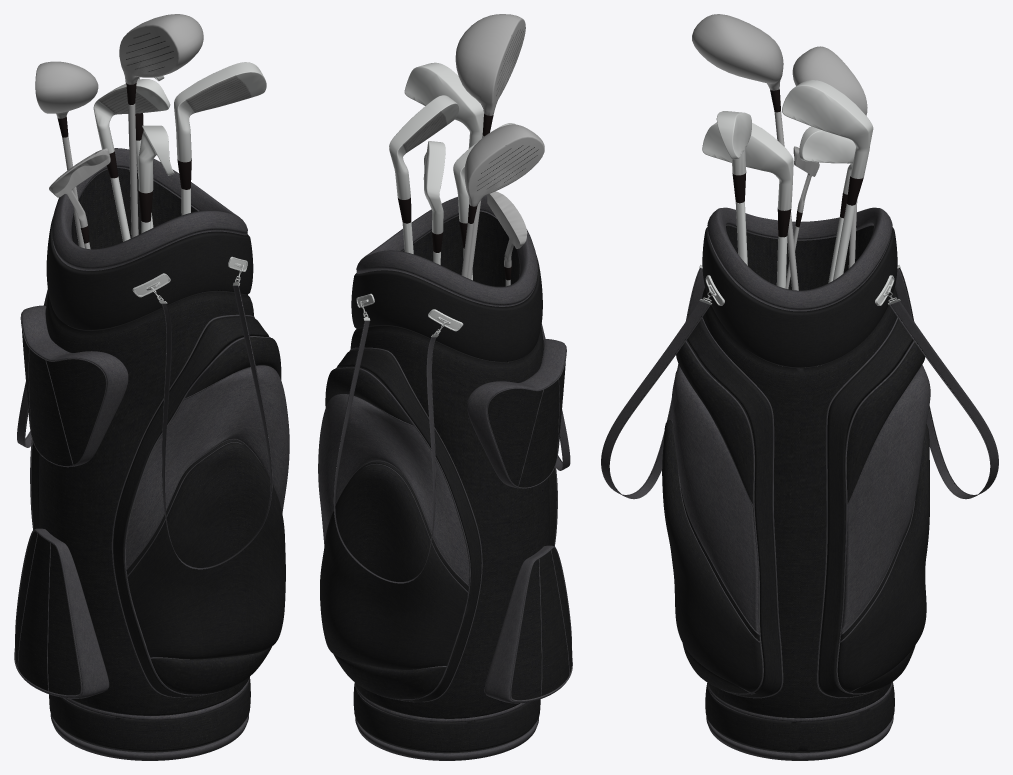
Rendered from golf_bag (1).glb.
3 renders of one model, left to right at view 1: azimuth 30°, elevation 25°; view 2: azimuth 150°, elevation 25°; view 3: azimuth 270°, elevation 25°, orthographic. The views are drawn at different scales.
Parts seen in each view (by area): view 1: golf_bag, golf_clubs, Default group initialShadingGroup polySurface1445 polySurfac, golf_bag_straps; view 2: golf_bag, golf_clubs, Default group initialShadingGroup polySurface1445 polySurfac, golf_bag_straps; view 3: golf_bag, golf_clubs, golf_bag_straps, Default group initialShadingGroup polySurface1445 polySurfac.
Part boxes in pixels (left/top/right/bottom): golf_bag: left=14, top=148, right=289, bottom=760; golf_clubs: left=35, top=14, right=266, bottom=249; Default group initialShadingGroup polySurface1445 polySurfac: left=71, top=168, right=197, bottom=249; golf_bag_straps: left=17, top=256, right=272, bottom=569; golf_bag: left=318, top=195, right=572, bottom=760; golf_clubs: left=389, top=14, right=544, bottom=286; Default group initialShadingGroup polySurface1445 polySurfac: left=402, top=211, right=519, bottom=286; golf_bag_straps: left=333, top=293, right=570, bottom=583; golf_bag: left=662, top=207, right=930, bottom=760; golf_clubs: left=692, top=14, right=873, bottom=290; golf_bag_straps: left=601, top=264, right=998, bottom=499; Default group initialShadingGroup polySurface1445 polySurfac: left=726, top=225, right=873, bottom=290.
Bounding box in the file's own units: 2.38 × 7.41 × 3.83.
2 materials, 2 textured.
